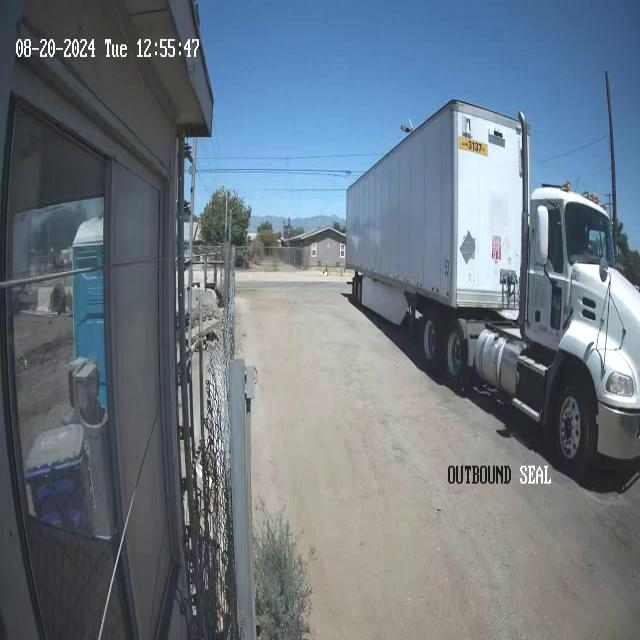CONTAINER: (344, 97, 530, 315)
